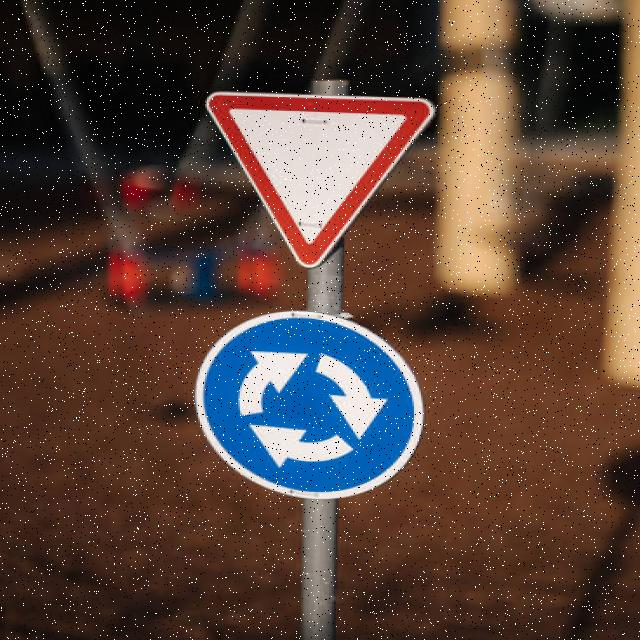round_about: (187, 311, 423, 504)
